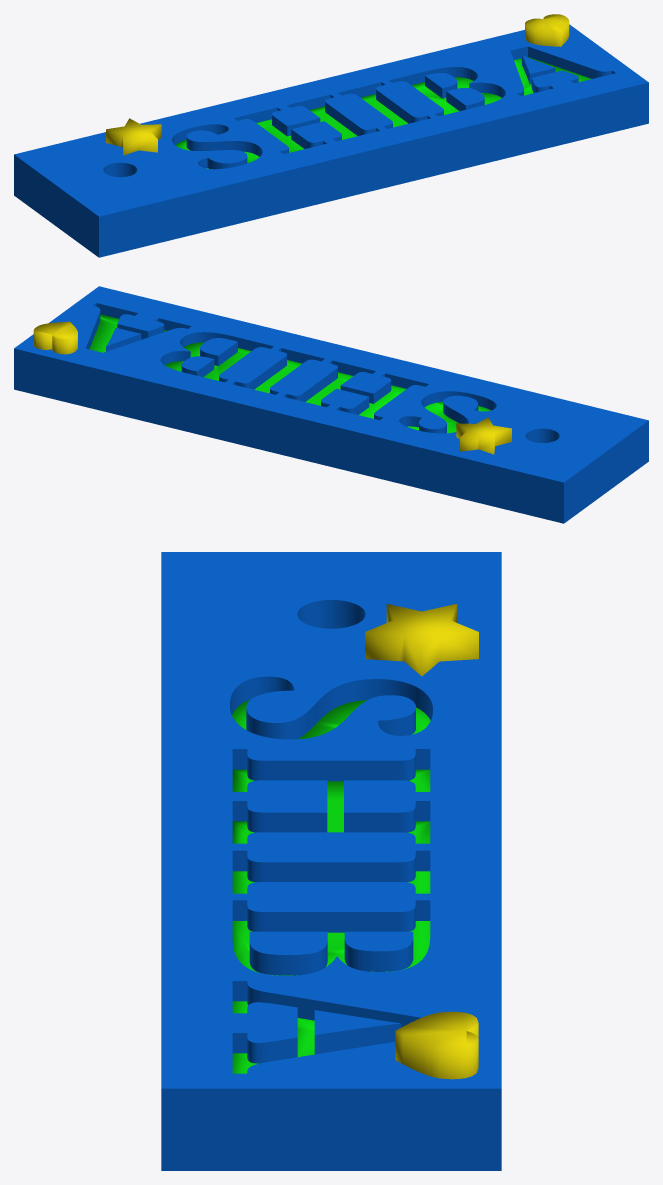
The model's file is AR-stamprally-CAD講座.glb.
3 views of the same model, one above another, from view 1: azimuth 30°, elevation 25°; view 2: azimuth 150°, elevation 25°; view 3: azimuth 270°, elevation 25° (orthographic). The views are drawn at different scales.
Parts seen in each view (by area): view 1: group_0_4634441, group_0_40919, group_0_16768282; view 2: group_0_4634441, group_0_40919, group_0_16768282; view 3: group_0_4634441, group_0_16768282, group_0_40919.
Boxes of the visible parts, bbox=[...] form: group_0_4634441: bbox=[14, 24, 648, 257]; group_0_40919: bbox=[175, 57, 591, 168]; group_0_16768282: bbox=[106, 14, 569, 155]; group_0_4634441: bbox=[14, 286, 648, 523]; group_0_40919: bbox=[89, 314, 490, 433]; group_0_16768282: bbox=[33, 321, 511, 454]; group_0_4634441: bbox=[161, 552, 501, 1170]; group_0_16768282: bbox=[365, 604, 478, 1079]; group_0_40919: bbox=[232, 700, 430, 1073].
Size of the model in its own units: 56 by 5.41 by 15.
